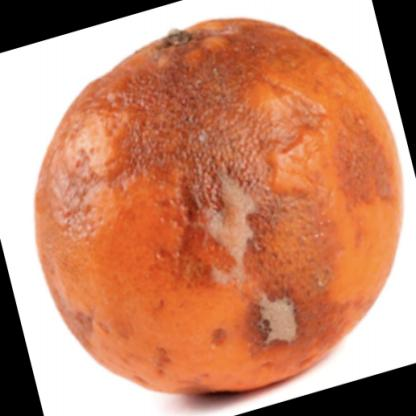rotten_orange: (32, 17, 409, 399)
